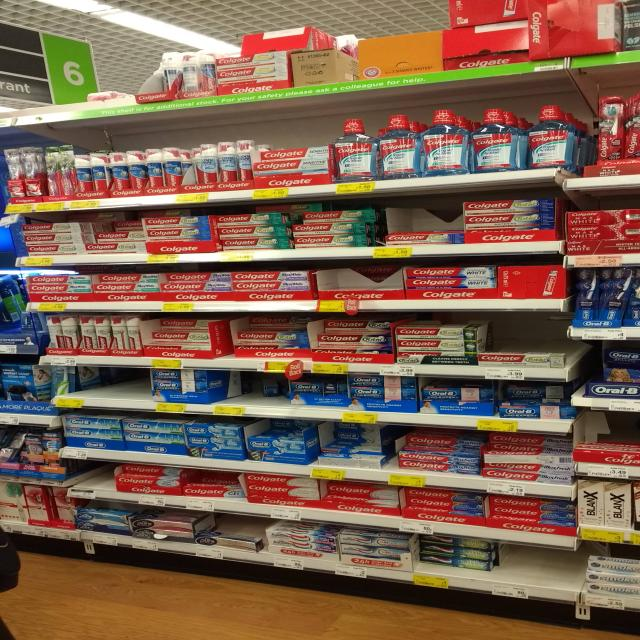void: (504, 541, 579, 598), (68, 458, 113, 500), (219, 371, 258, 415), (124, 47, 150, 102), (48, 366, 82, 408), (118, 362, 145, 410), (88, 363, 114, 412)
